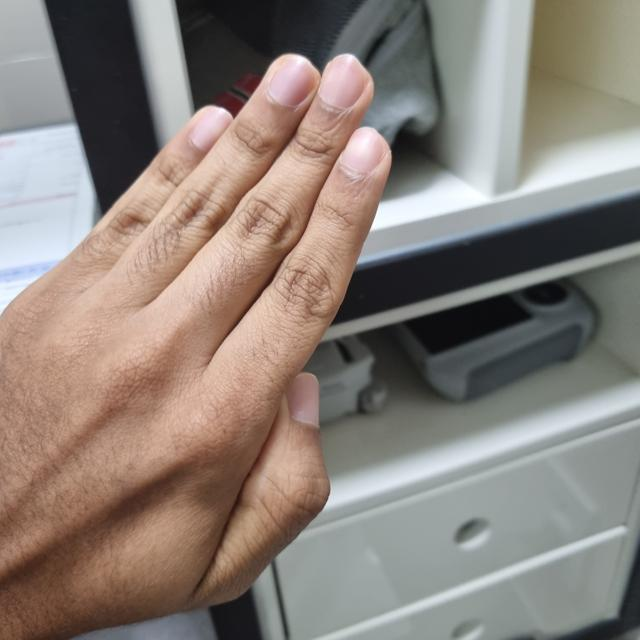Paper: (0, 54, 387, 634)
